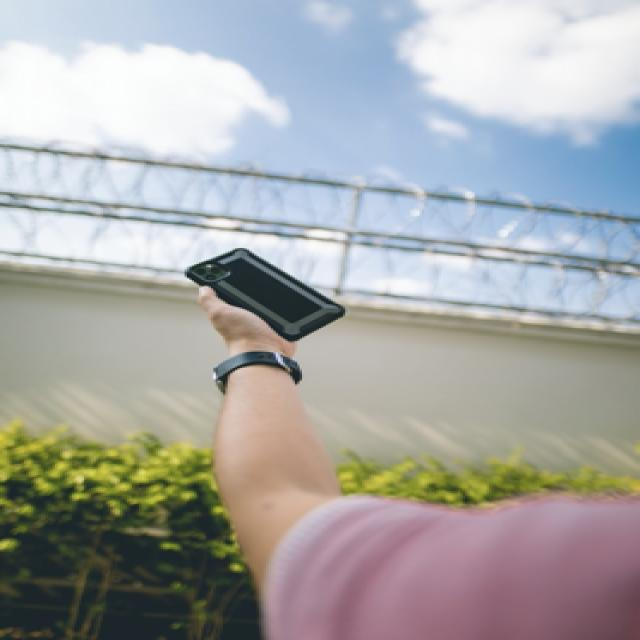cellphone: (182, 246, 345, 342)
